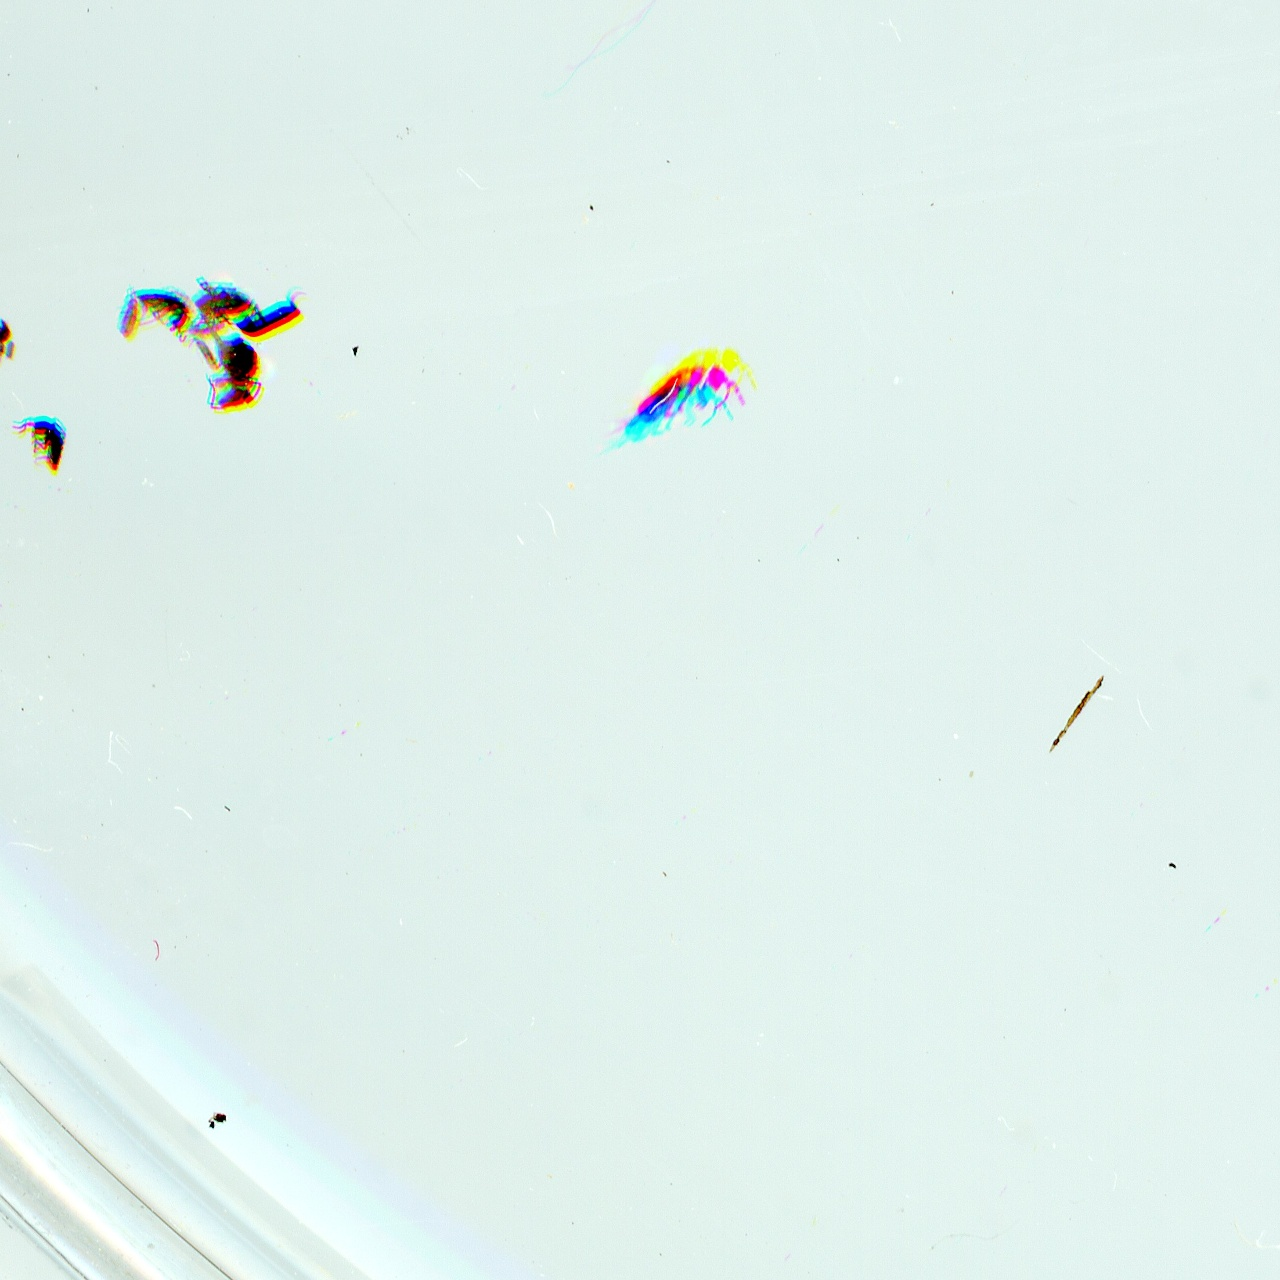arthropod: (566, 322, 774, 482), (224, 278, 322, 358), (202, 332, 267, 417), (189, 268, 260, 338), (8, 415, 70, 479), (136, 282, 195, 339), (115, 286, 143, 342), (0, 309, 15, 370)
